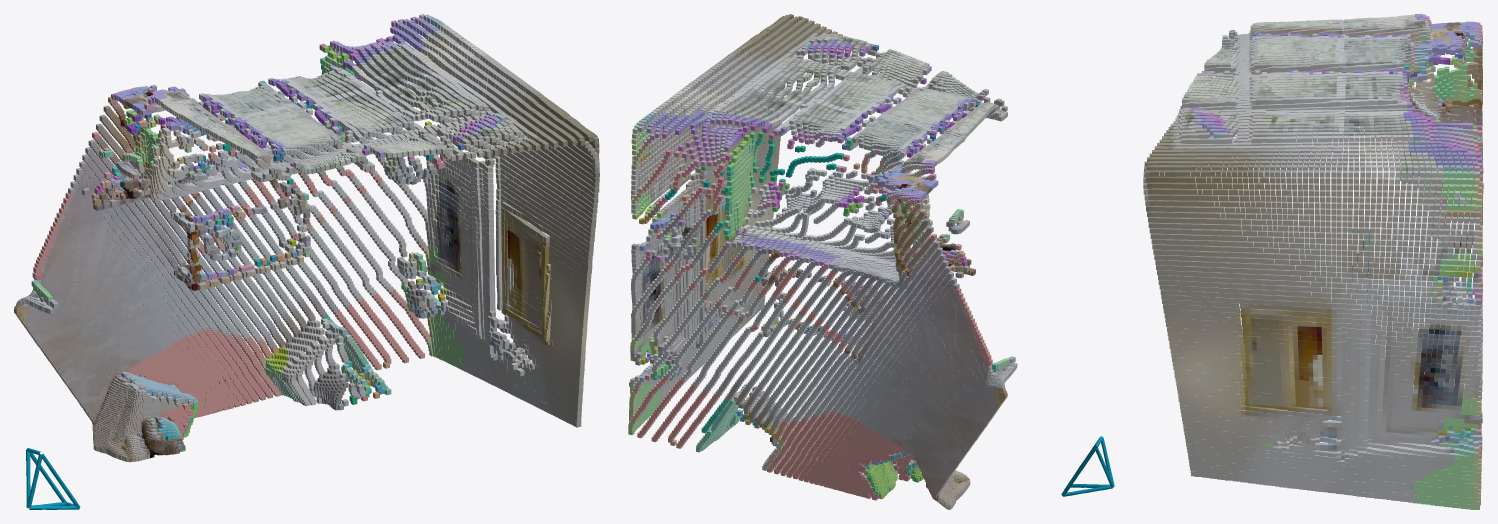
The picture shows the model from 3 angles, left to right: view 1: azimuth 30°, elevation 25°; view 2: azimuth 150°, elevation 25°; view 3: azimuth 270°, elevation 25°; orthographic projection. The views are drawn at different scales.
Size of the model in its own units: 5.4 by 3.92 by 3.41.
